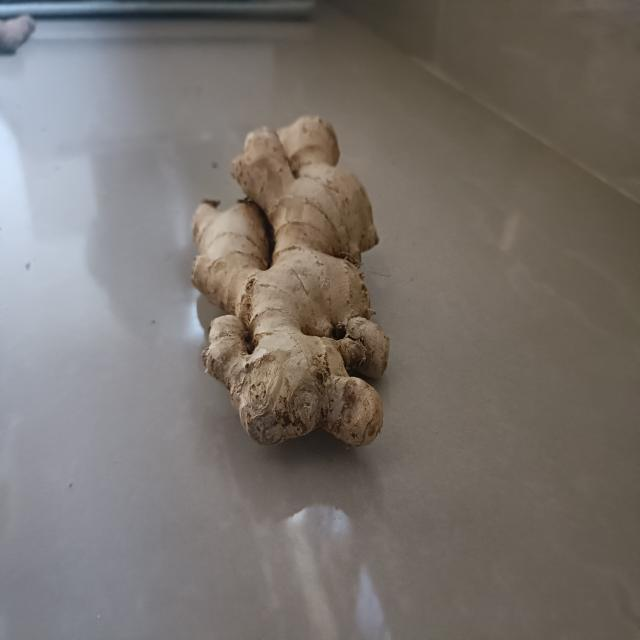ginger: (195, 112, 388, 449)
